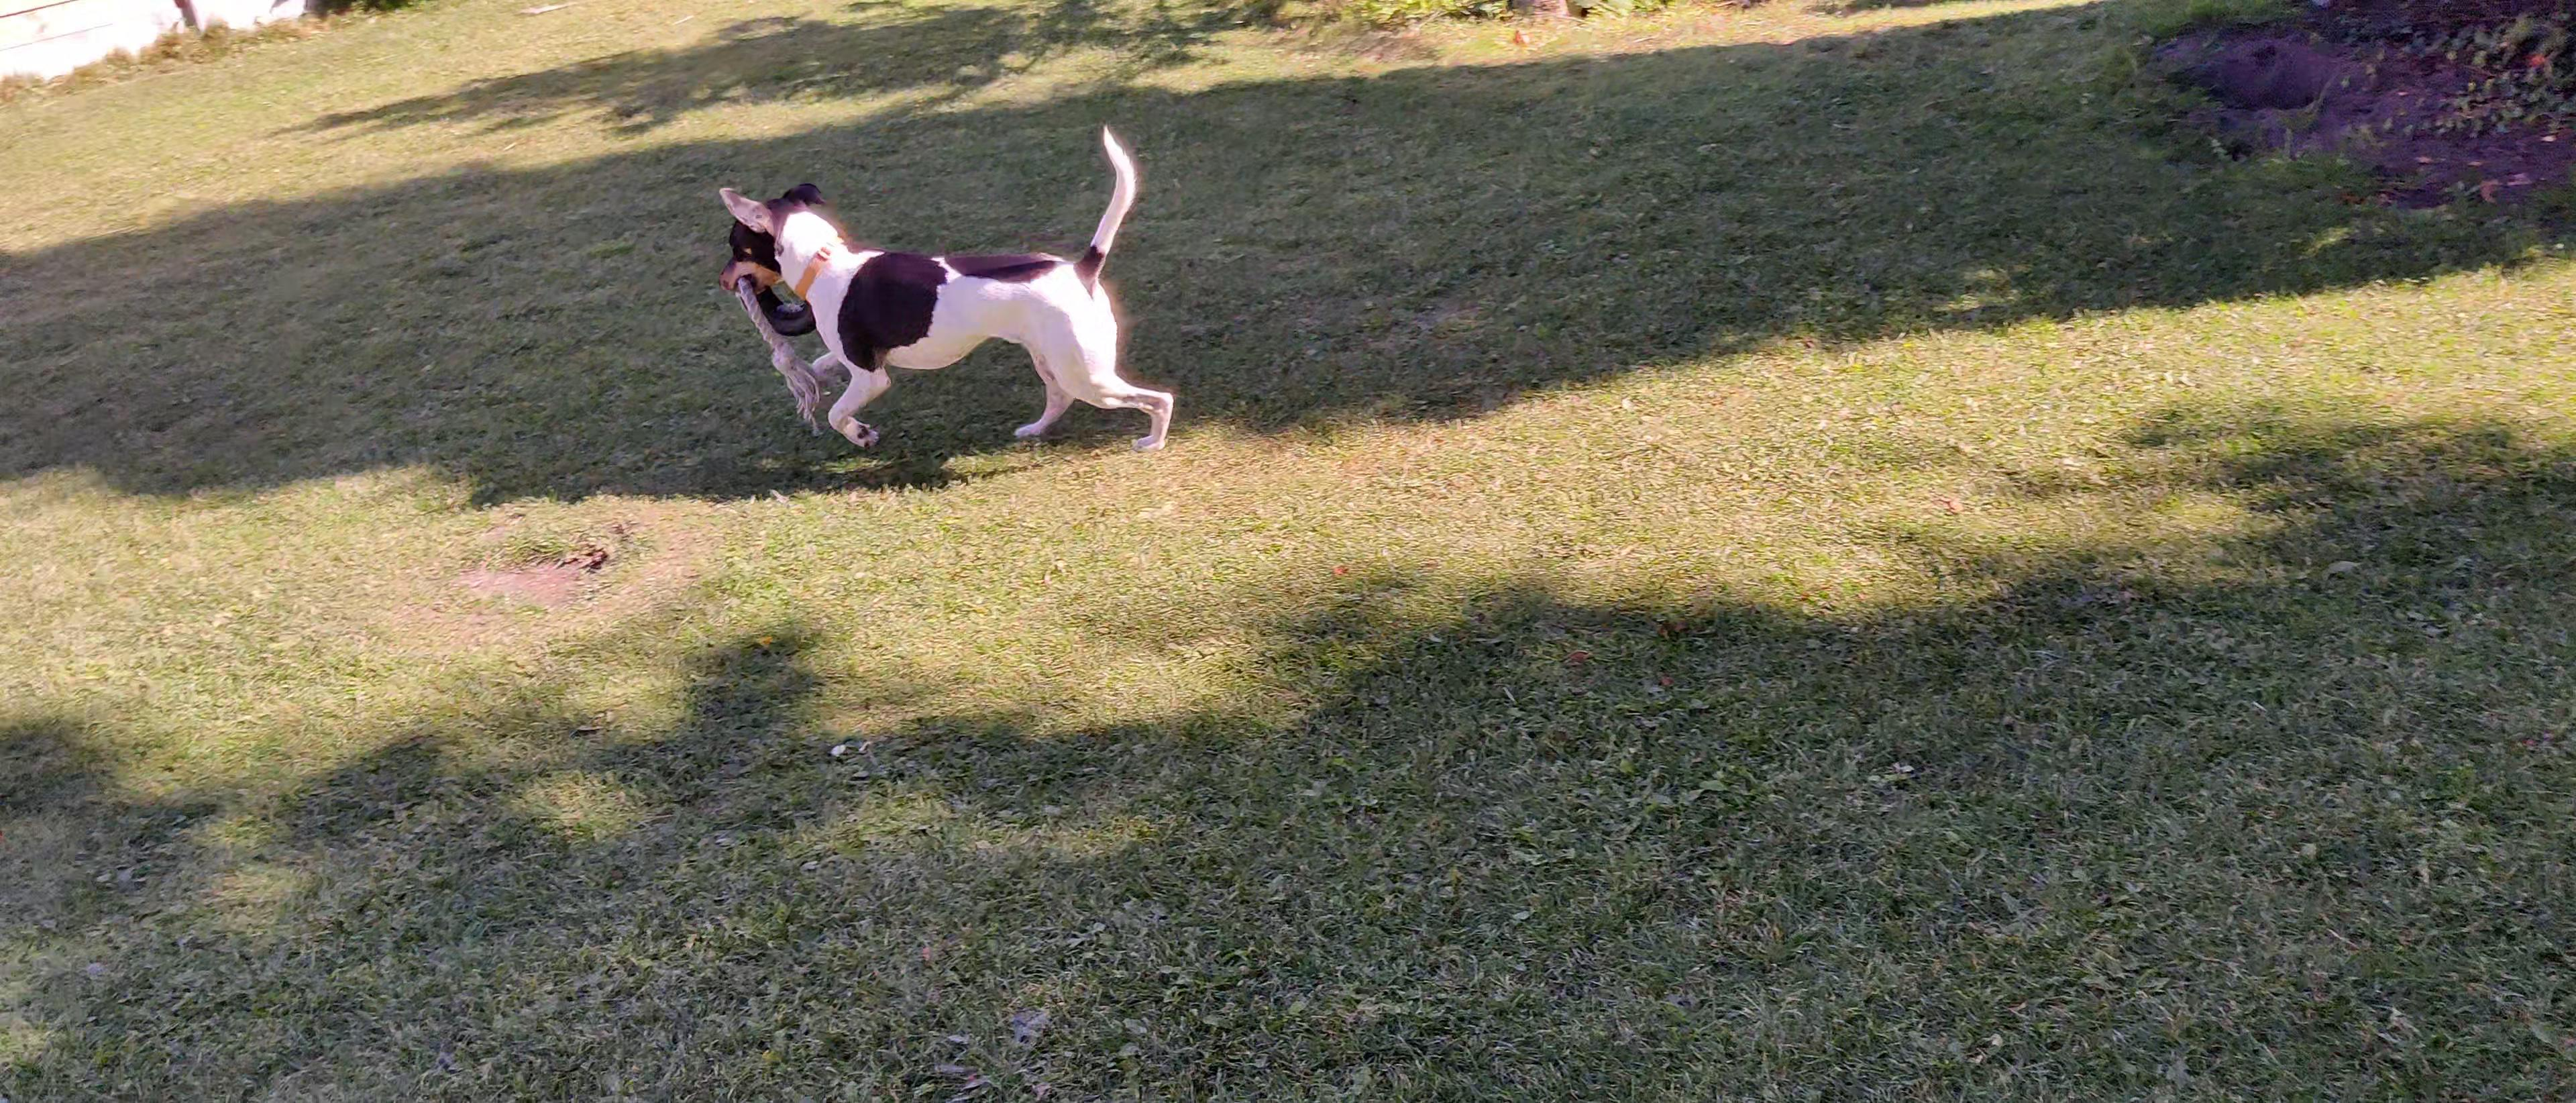Dog: (683, 100, 1209, 468)
